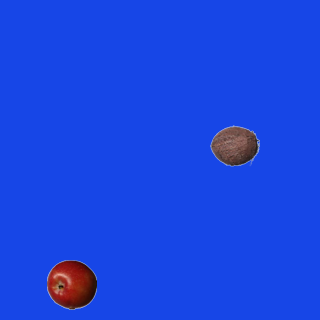Apple Braeburn: (46, 259, 96, 309)
Cocos: (209, 120, 259, 170)
